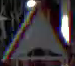Speed Breaker ahead: (2, 3, 70, 62)
